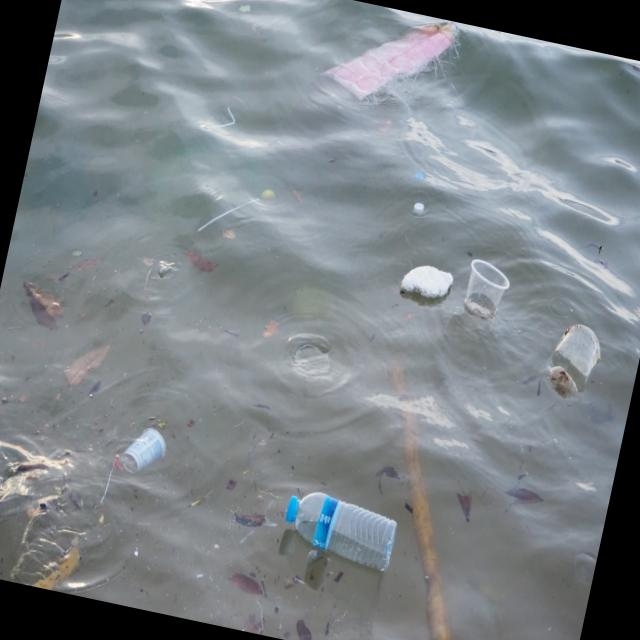foam: (400, 260, 456, 303)
plastic: (276, 486, 403, 572)
plastic bottle: (539, 316, 607, 403), (458, 255, 514, 322), (115, 424, 169, 484)
unknow: (313, 0, 470, 127), (9, 536, 84, 595)
